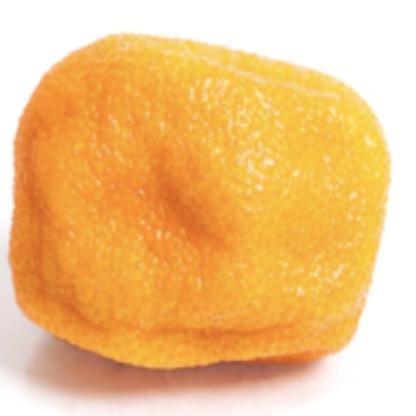rotten: (7, 33, 387, 370)
